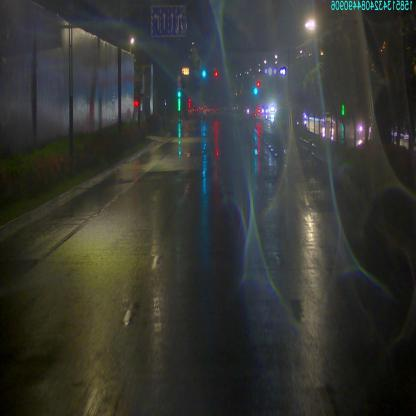traffic-light: (202, 68, 207, 81), (214, 67, 220, 76)
